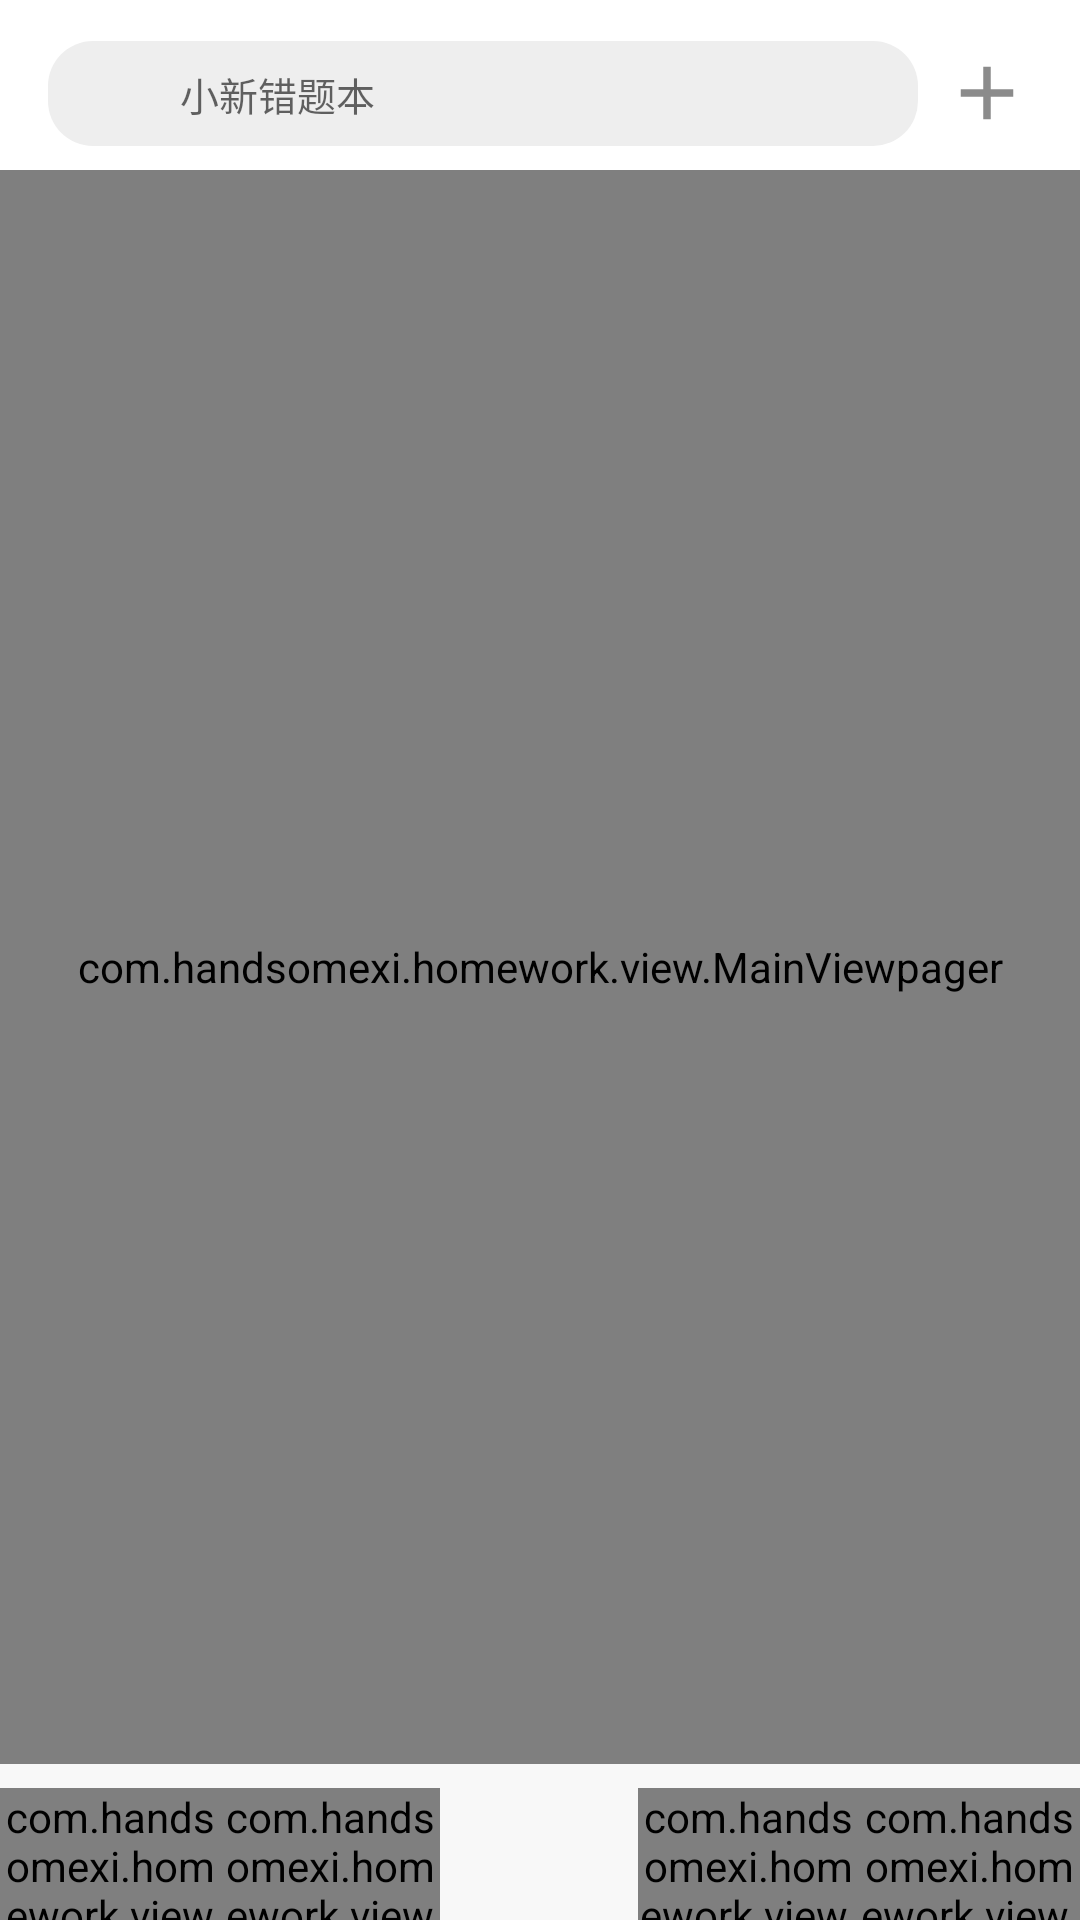

Named icons in this screenshot (1080w x 1920h) and their centers, (x,y):
add: (987,93)
